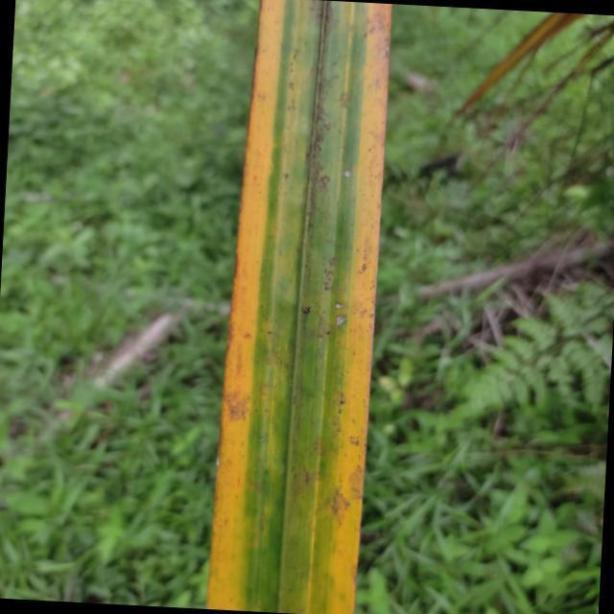Megnesium: (203, 0, 395, 614)
